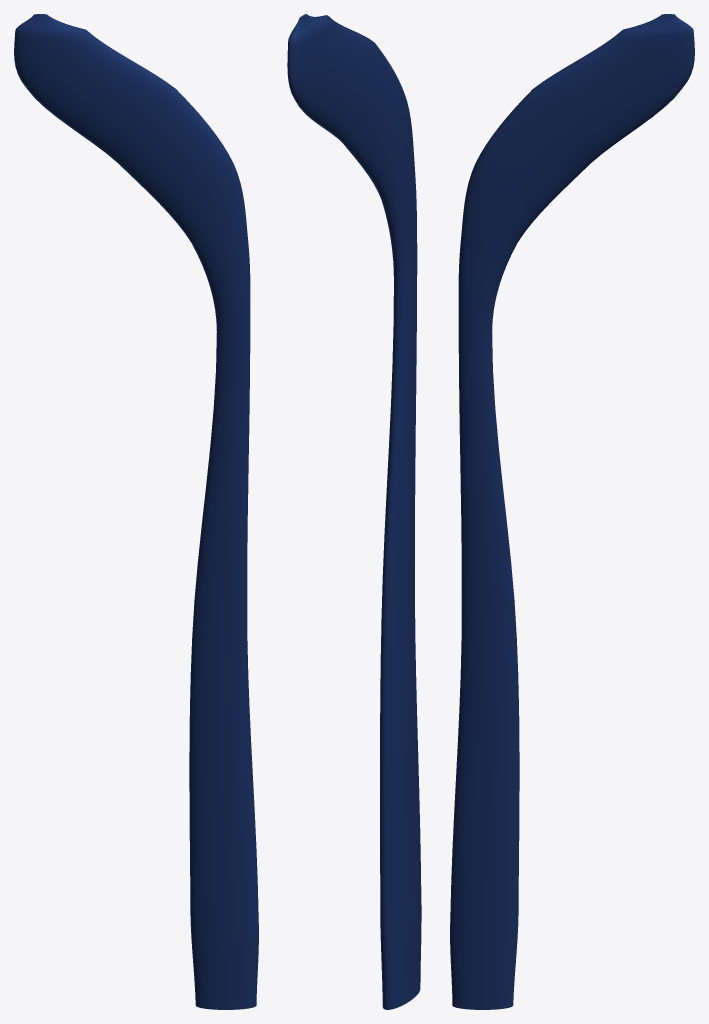
Rendered from link_temple_right_hinge.obj.
3 renders of one model, left to right at view 1: azimuth 90°, elevation 25°; view 2: azimuth 150°, elevation 25°; view 3: azimuth 270°, elevation 25°, orthographic. The views are drawn at different scales.
Parts seen in each view (by area): view 1: temple_right; view 2: temple_right; view 3: temple_right.
Part boxes in pixels (box(x1,y1,x2,y2)): temple_right: box(14, 14, 258, 1009); temple_right: box(287, 14, 421, 1009); temple_right: box(450, 14, 694, 1009).
Size of the model in its own units: 0.0127 by 0.629 by 0.1409.
